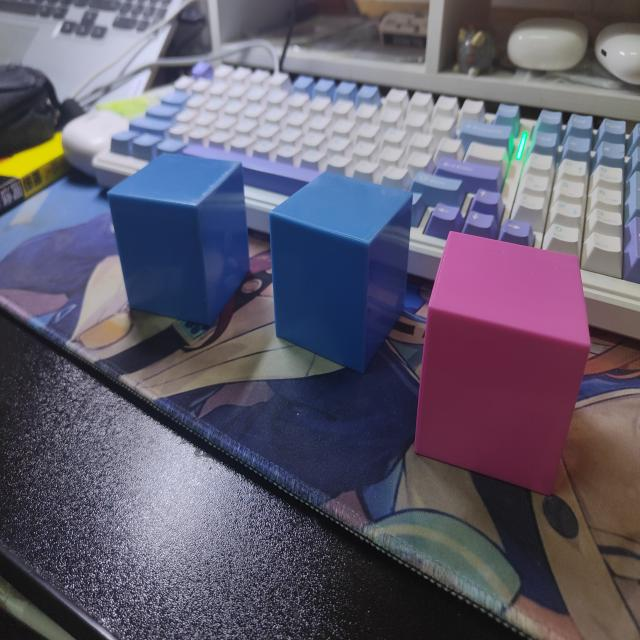blue: (269, 170, 412, 378), (105, 151, 253, 327)
pink: (415, 230, 591, 497)
